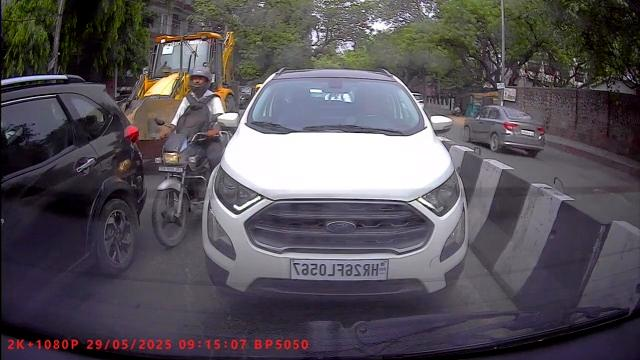motorcycle_with_helmet: (148, 64, 237, 248)
